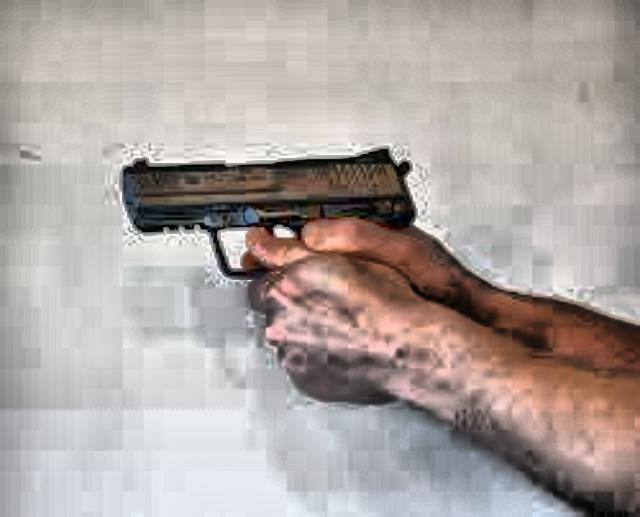pistol: (123, 136, 409, 278)
